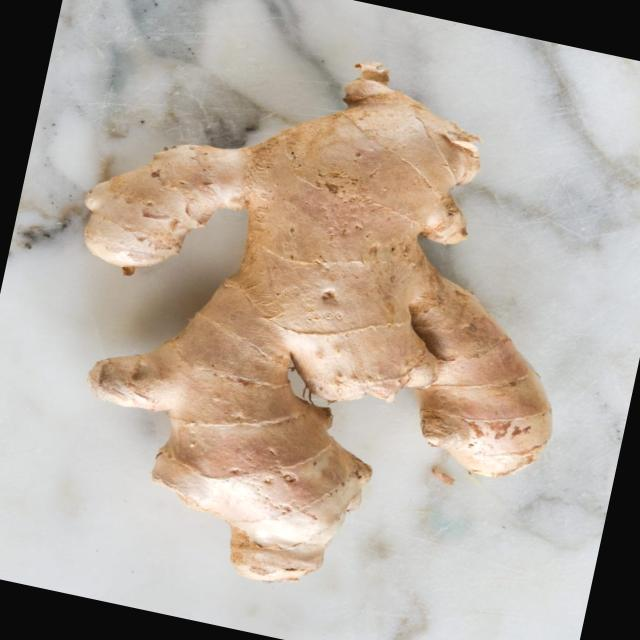ginger-root: (0, 0, 635, 640)
